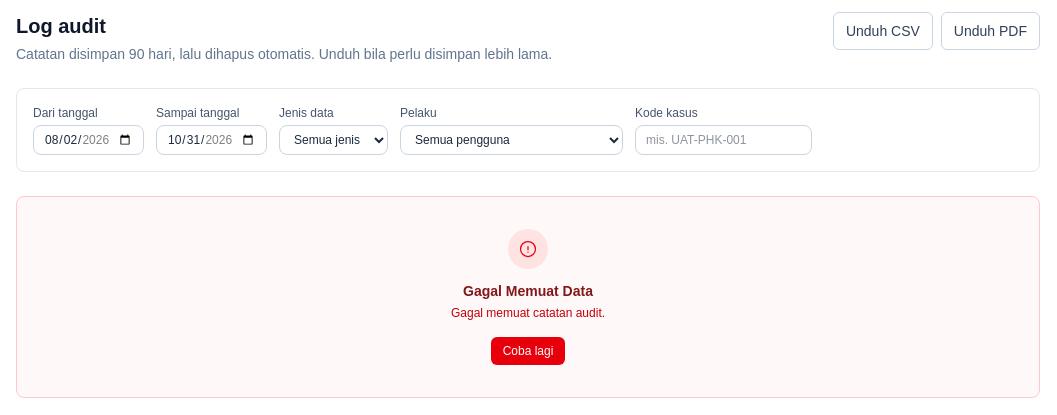
it: AuditPage (SCRUM-141) › shows an error with a retry, and loads again when the reader retries
This screenshot has width=1057, height=415.
Check: the message "Gagal Memuat Data Gagal memuat catatan audit. Coba lagi" is shown, box [16, 196, 1040, 398]
Click the button "Coba lagi": coordinates (528, 351) [491, 337, 565, 365]
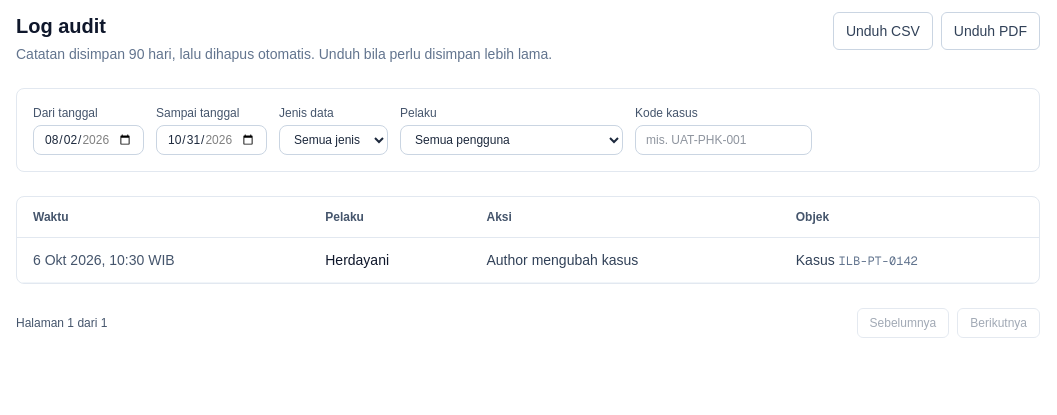
Check: the text "ILB-PT-0142" is shown, box [839, 253, 918, 269]
